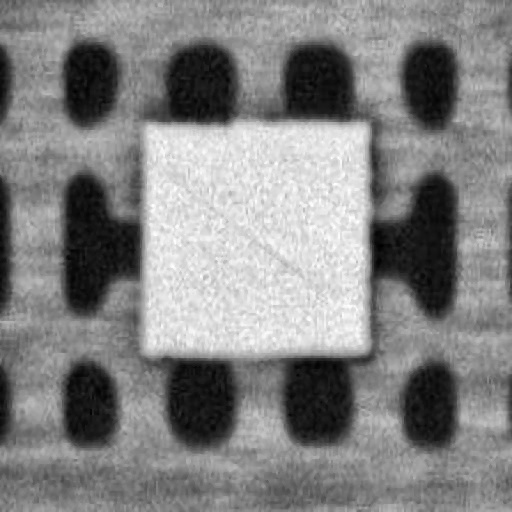DIE_CRACK: (244, 114, 475, 192)
